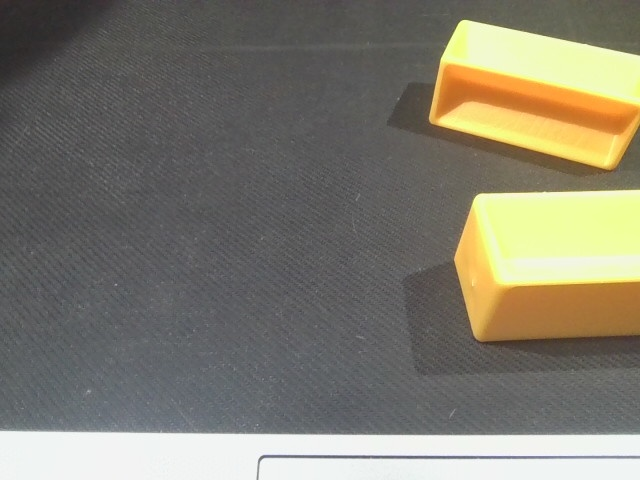YellowSample: (427, 16, 640, 176), (449, 187, 640, 344)
